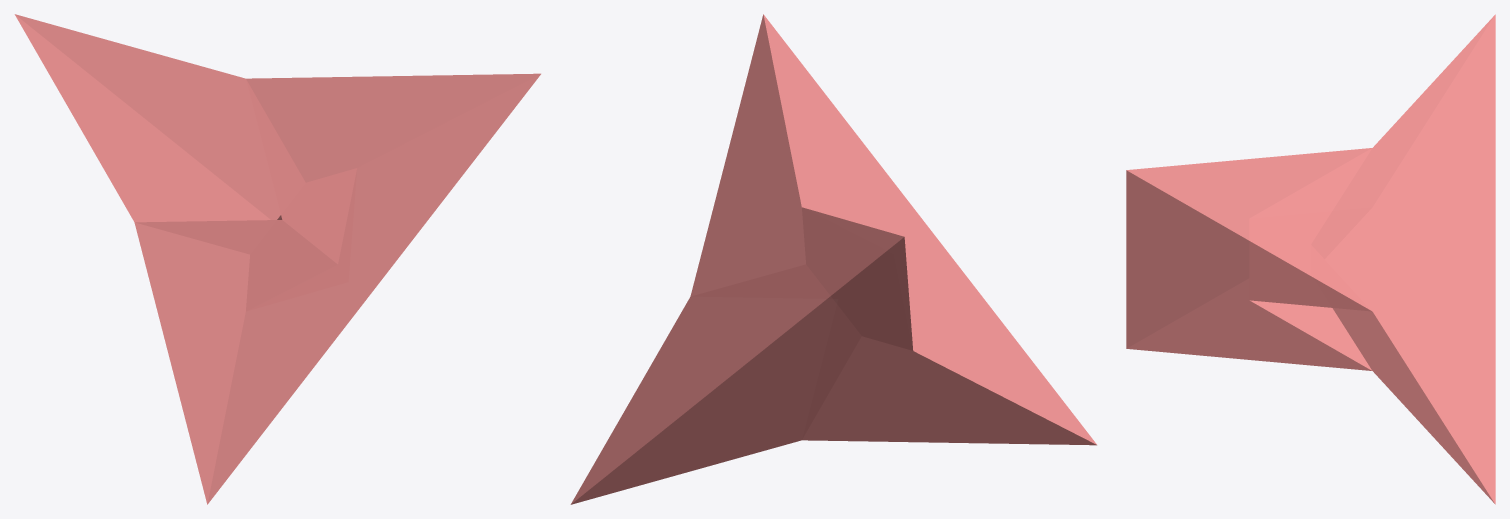
Rendered from CairoTiling.obj.
3 renders of one model, left to right at view 1: azimuth 30°, elevation 25°; view 2: azimuth 150°, elevation 25°; view 3: azimuth 270°, elevation 25°, orthographic. The views are drawn at different scales.
Size of the model in its own units: 1.2 by 1.2 by 1.2.
